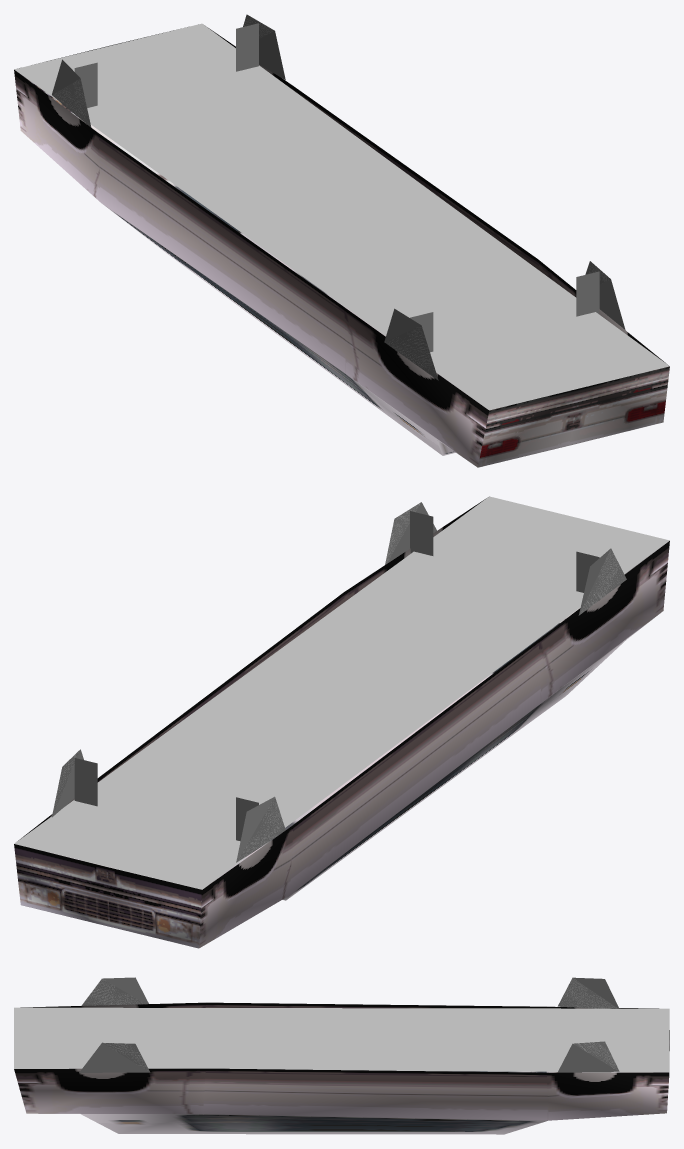
The model's file is VEGAS_model8_low.obj.
The picture shows the model from 3 angles, top to bottom: view 1: azimuth 30°, elevation 25°; view 2: azimuth 150°, elevation 25°; view 3: azimuth 270°, elevation 25°; orthographic projection. The views are drawn at different scales.
Visible parts, largest first — view 1: VEGAS_model8_low; view 2: VEGAS_model8_low; view 3: VEGAS_model8_low.
Boxes of the visible parts, left/top/right/bottom form: VEGAS_model8_low: left=14, top=14, right=669, bottom=467; VEGAS_model8_low: left=14, top=496, right=669, bottom=948; VEGAS_model8_low: left=14, top=977, right=669, bottom=1134.
Bounding box in the file's own units: 314 × 230 × 1312.
